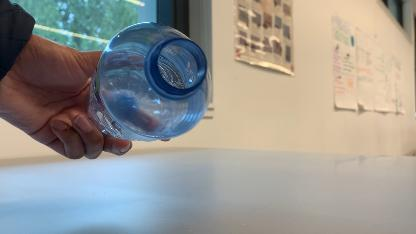Plastic Bottle: (80, 22, 219, 154)
